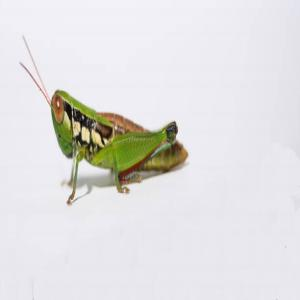locust: (29, 57, 192, 222)
